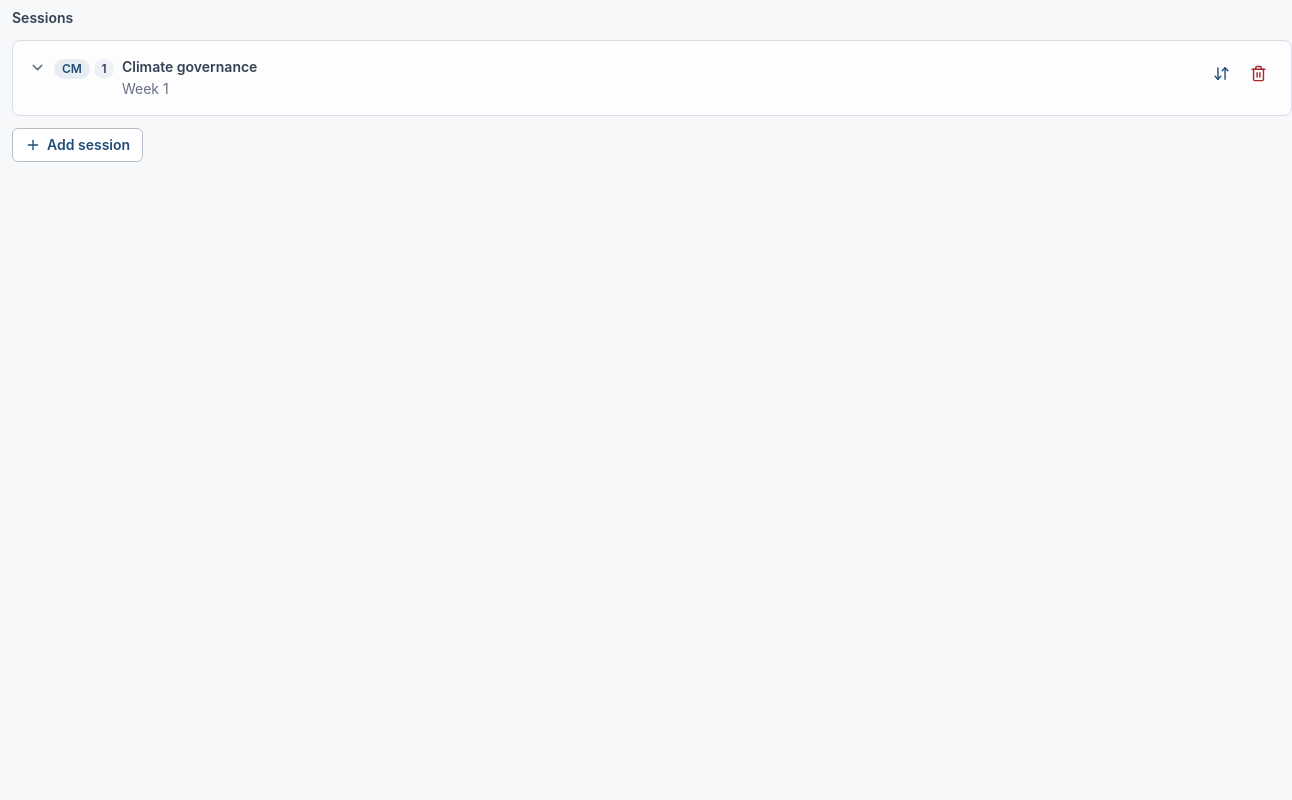
it: ScheduleEditor › keeps sessions compact until one is opened
The width and height of the screenshot is (1292, 800).
Expected: the text "Climate governance" is shown, [122,57,257,77]
Expected: the text named "Session CM 1" is shown, [54,59,90,79]
Click the button with aria-label "Expand topic: Climate governance (position 1)" at (72, 69), box [29,57,1193,99]
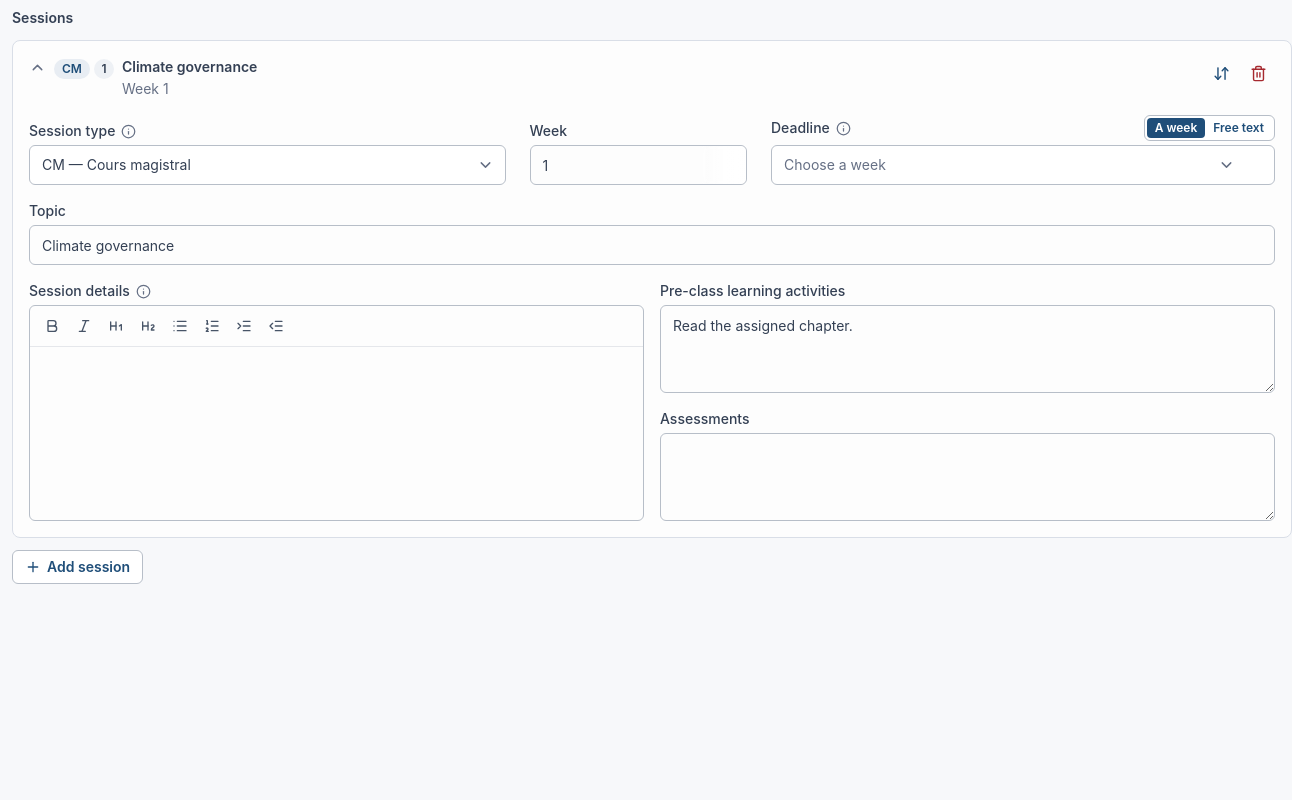
Expected: the number field labelled "Week" holds "1", [530,145,747,185]
Result: the text box labelled "Pre-class learning activities" is shown at [660,305,1275,393]
Result: the text "Session type" is shown at [29,121,116,141]
